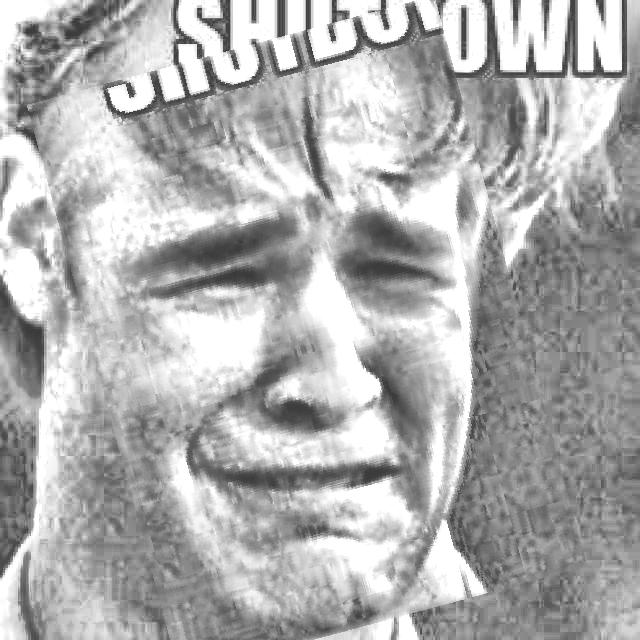sad: (61, 16, 552, 640)
